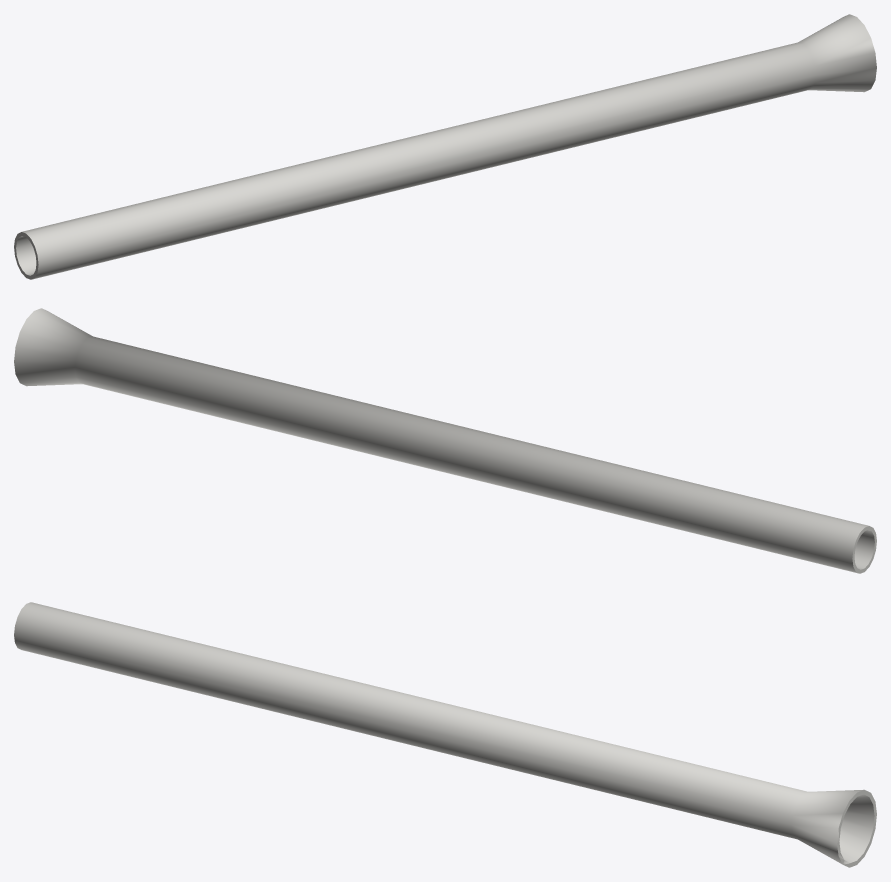
The model's file is tool_Pipe_bender_spring_5.16.glb.
3 renders of one model, top to bottom at view 1: azimuth 30°, elevation 25°; view 2: azimuth 150°, elevation 25°; view 3: azimuth 330°, elevation 25°, orthographic.
Visible parts, largest first — view 1: tool_Pipe_bender_spring_5.16; view 2: tool_Pipe_bender_spring_5.16; view 3: tool_Pipe_bender_spring_5.16.
Boxes of the visible parts, box(x1,y1,x2,y2) form: tool_Pipe_bender_spring_5.16: box(14, 14, 876, 279); tool_Pipe_bender_spring_5.16: box(14, 308, 876, 573); tool_Pipe_bender_spring_5.16: box(14, 602, 876, 867).
Bounding box in the file's own units: 0.1903 × 0.0158 × 0.0158.
1 material, 1 textured.
